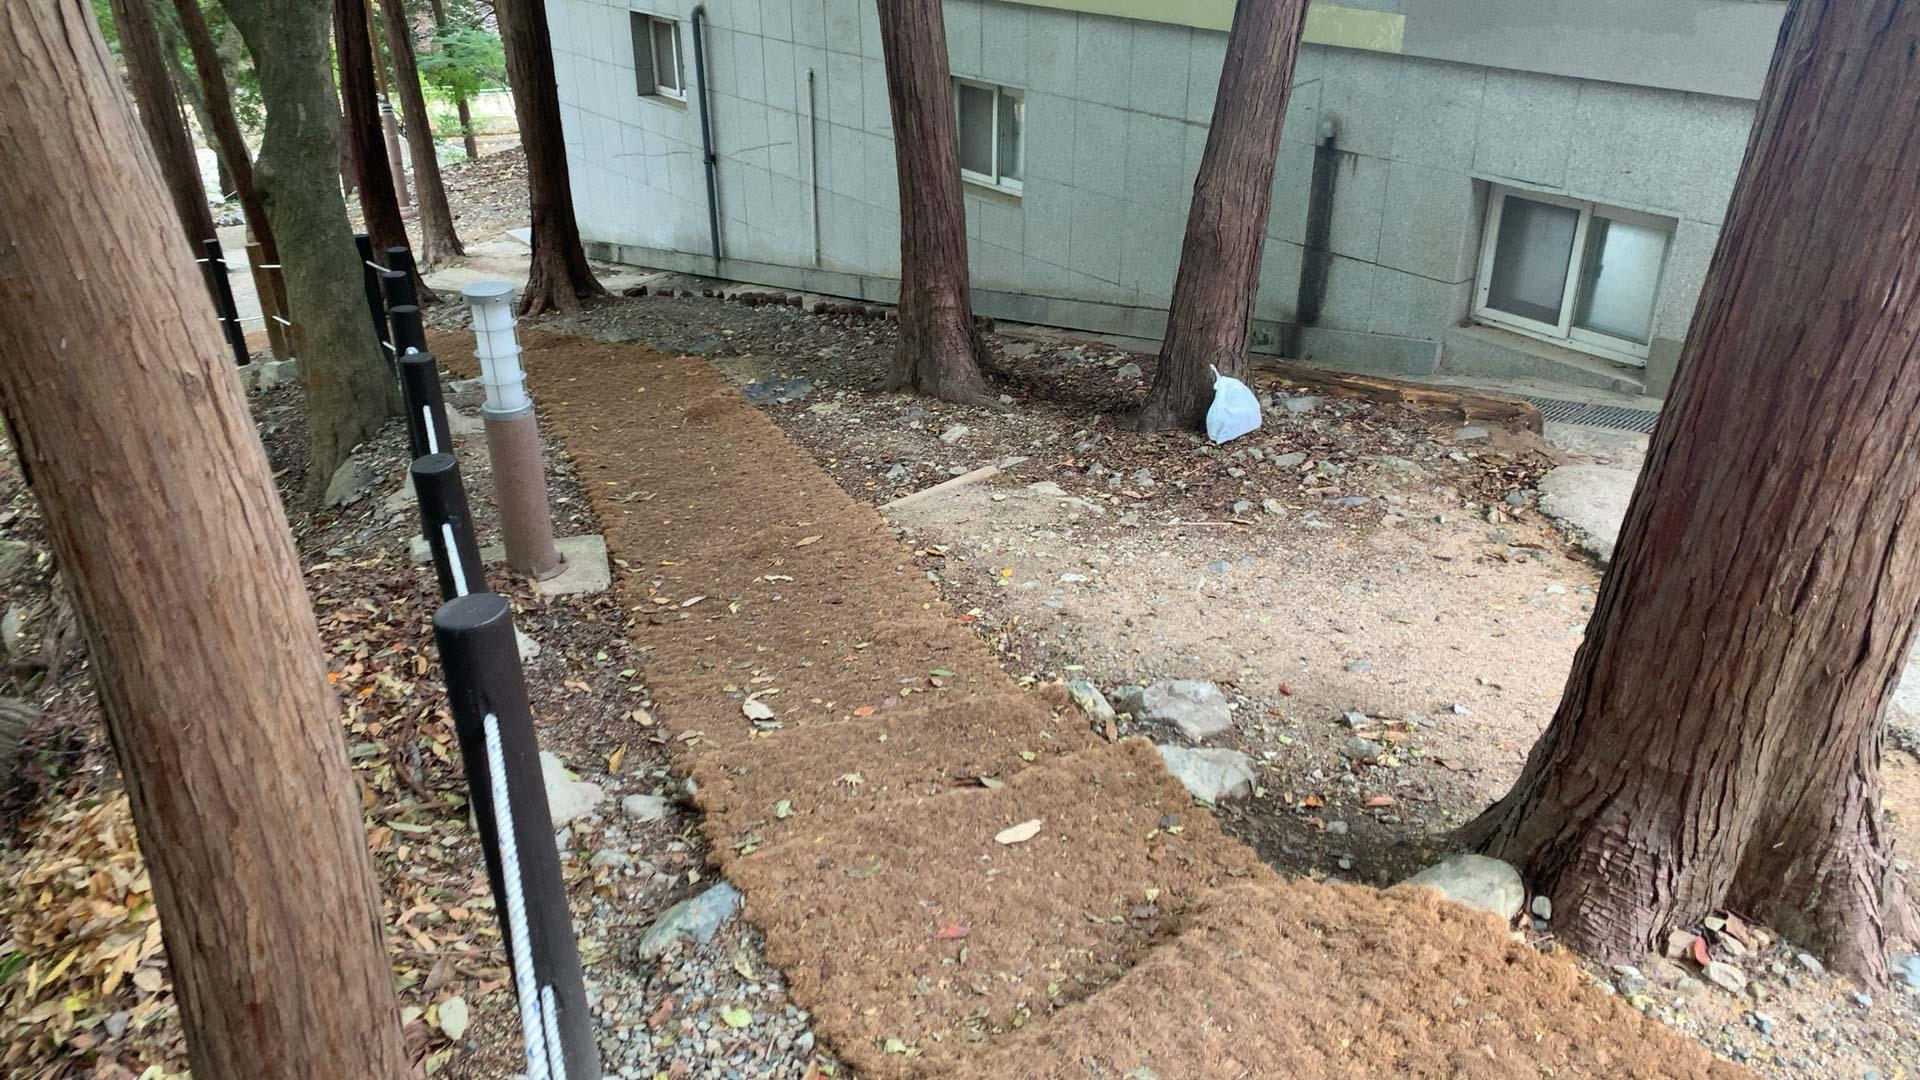white_bag: (1200, 357, 1270, 444)
